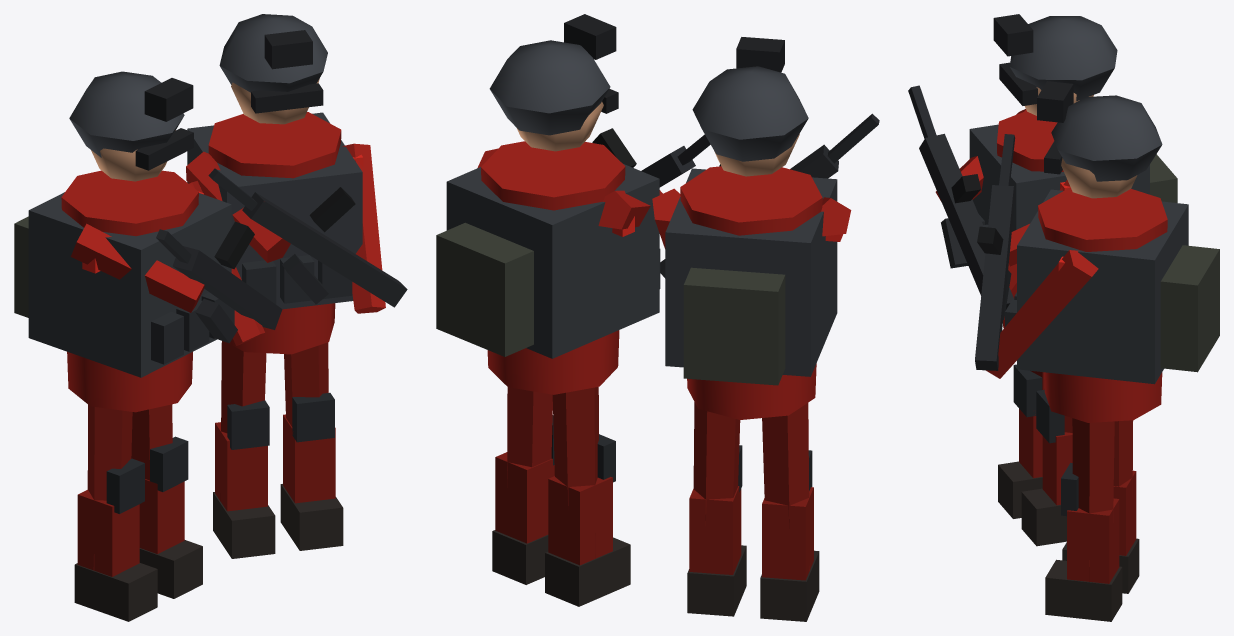
Rendered from sentry_dl7_red.glb.
3 renders of one model, left to right at view 1: azimuth 30°, elevation 25°; view 2: azimuth 150°, elevation 25°; view 3: azimuth 270°, elevation 25°, orthographic. The views are drawn at different scales.
Parts seen in each view (by area): view 1: sentry_dl7_red; view 2: sentry_dl7_red; view 3: sentry_dl7_red.
Part boxes in pixels (left/top/right/bottom): sentry_dl7_red: left=14, top=14, right=407, bottom=621; sentry_dl7_red: left=436, top=14, right=879, bottom=621; sentry_dl7_red: left=908, top=14, right=1219, bottom=621.
Size of the model in its own units: 0.254 by 0.3838 by 0.2166.
1 material, 1 textured.
